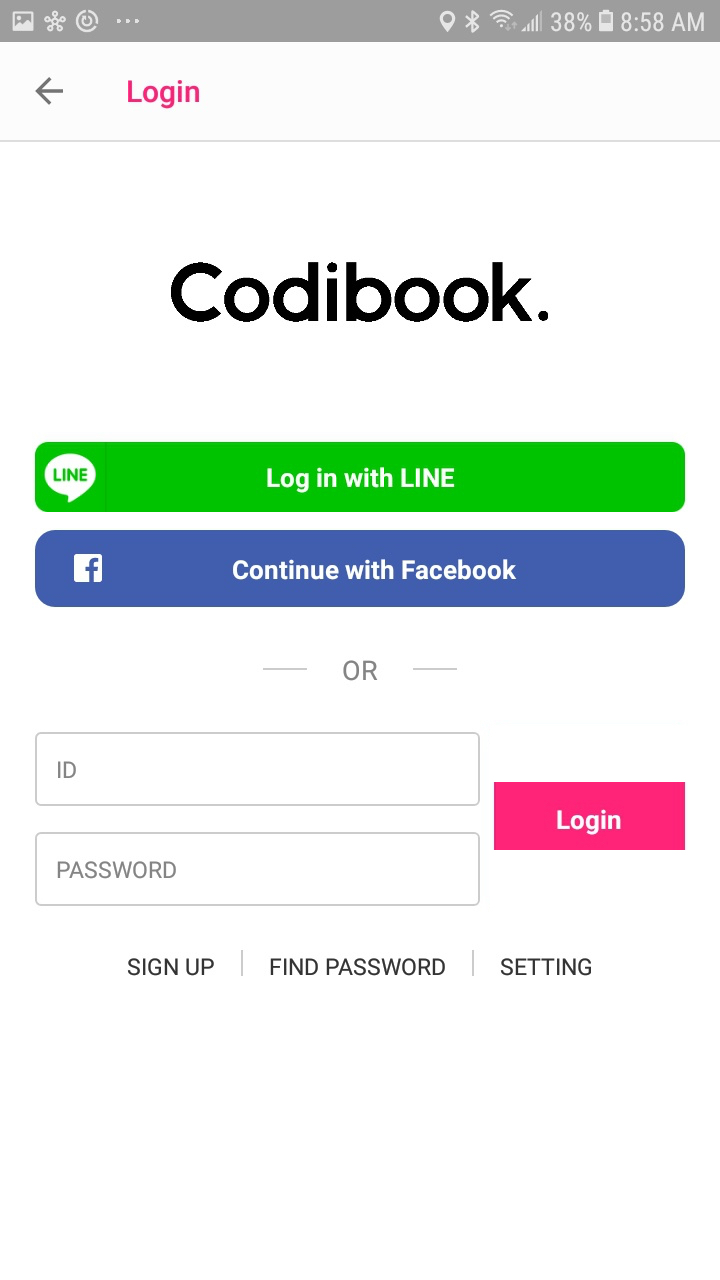EditText: (36, 732, 481, 807), (36, 832, 481, 907)
Icon: (36, 78, 64, 106)
Text: (171, 262, 549, 324), (270, 958, 446, 976), (58, 861, 177, 879), (128, 80, 200, 109), (501, 957, 592, 976), (128, 958, 215, 976), (343, 660, 378, 681), (58, 761, 77, 779)
TextButton: (36, 530, 686, 608), (35, 442, 685, 513), (494, 782, 686, 851)
UpperTaskBar: (1, 1, 720, 43)
